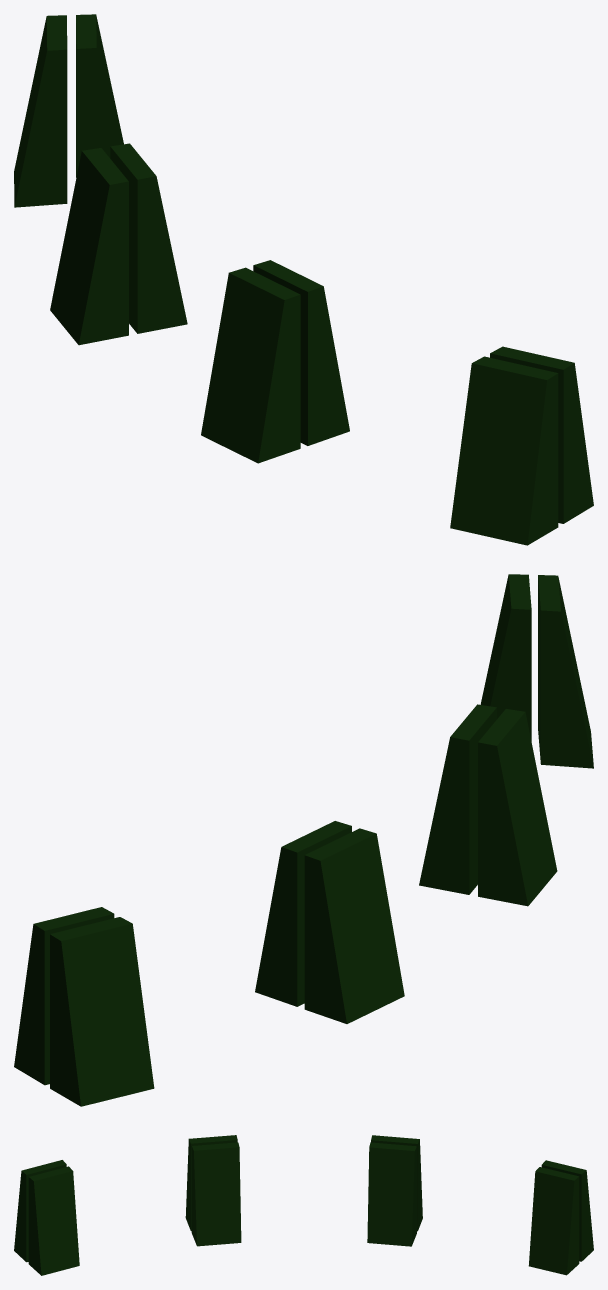
File: curved-wall-base3.fbx
The picture shows the model from 3 angles, top to bottom: view 1: azimuth 30°, elevation 25°; view 2: azimuth 150°, elevation 25°; view 3: azimuth 270°, elevation 25°; orthographic projection. The views are drawn at different scales.
Visible parts, largest first — view 1: curved-wall-base3; view 2: curved-wall-base3; view 3: curved-wall-base3.
Part boxes in pixels (<box>): curved-wall-base3: <box>14,14,593,545</box>; curved-wall-base3: <box>14,574,593,1106</box>; curved-wall-base3: <box>14,1135,593,1275</box>.
Size of the model in its own units: 5.1 by 3.37 by 20.26.
